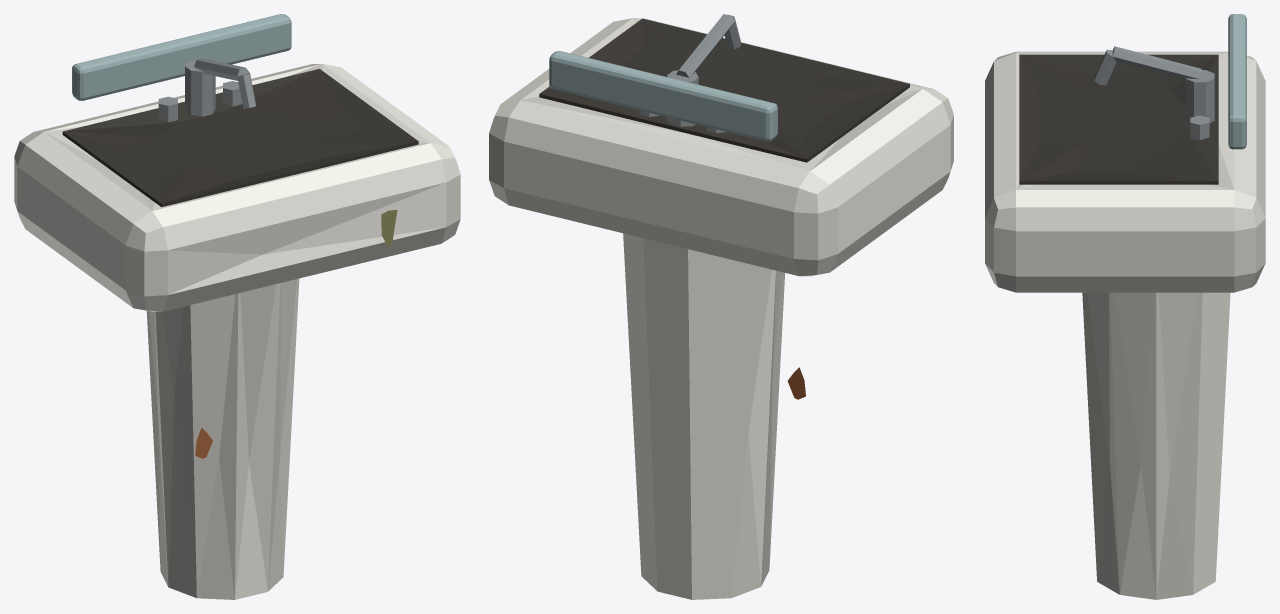
Rendered from sink_tap_vannaya_idle.glb.
3 views of the same model, side by side, from view 1: azimuth 30°, elevation 25°; view 2: azimuth 150°, elevation 25°; view 3: azimuth 270°, elevation 25° (orthographic). The views are drawn at different scales.
Parts seen in each view (by area): view 1: sink_tap_vannaya_idle; view 2: sink_tap_vannaya_idle; view 3: sink_tap_vannaya_idle.
Boxes of the visible parts, x1,y1,x2,y2 form: sink_tap_vannaya_idle: (14,14,460,599); sink_tap_vannaya_idle: (489,14,953,599); sink_tap_vannaya_idle: (985,14,1265,599).
Bounding box in the file's own units: 0.62 × 0.93 × 0.454.
Materials: 1 (1 with a texture image).
